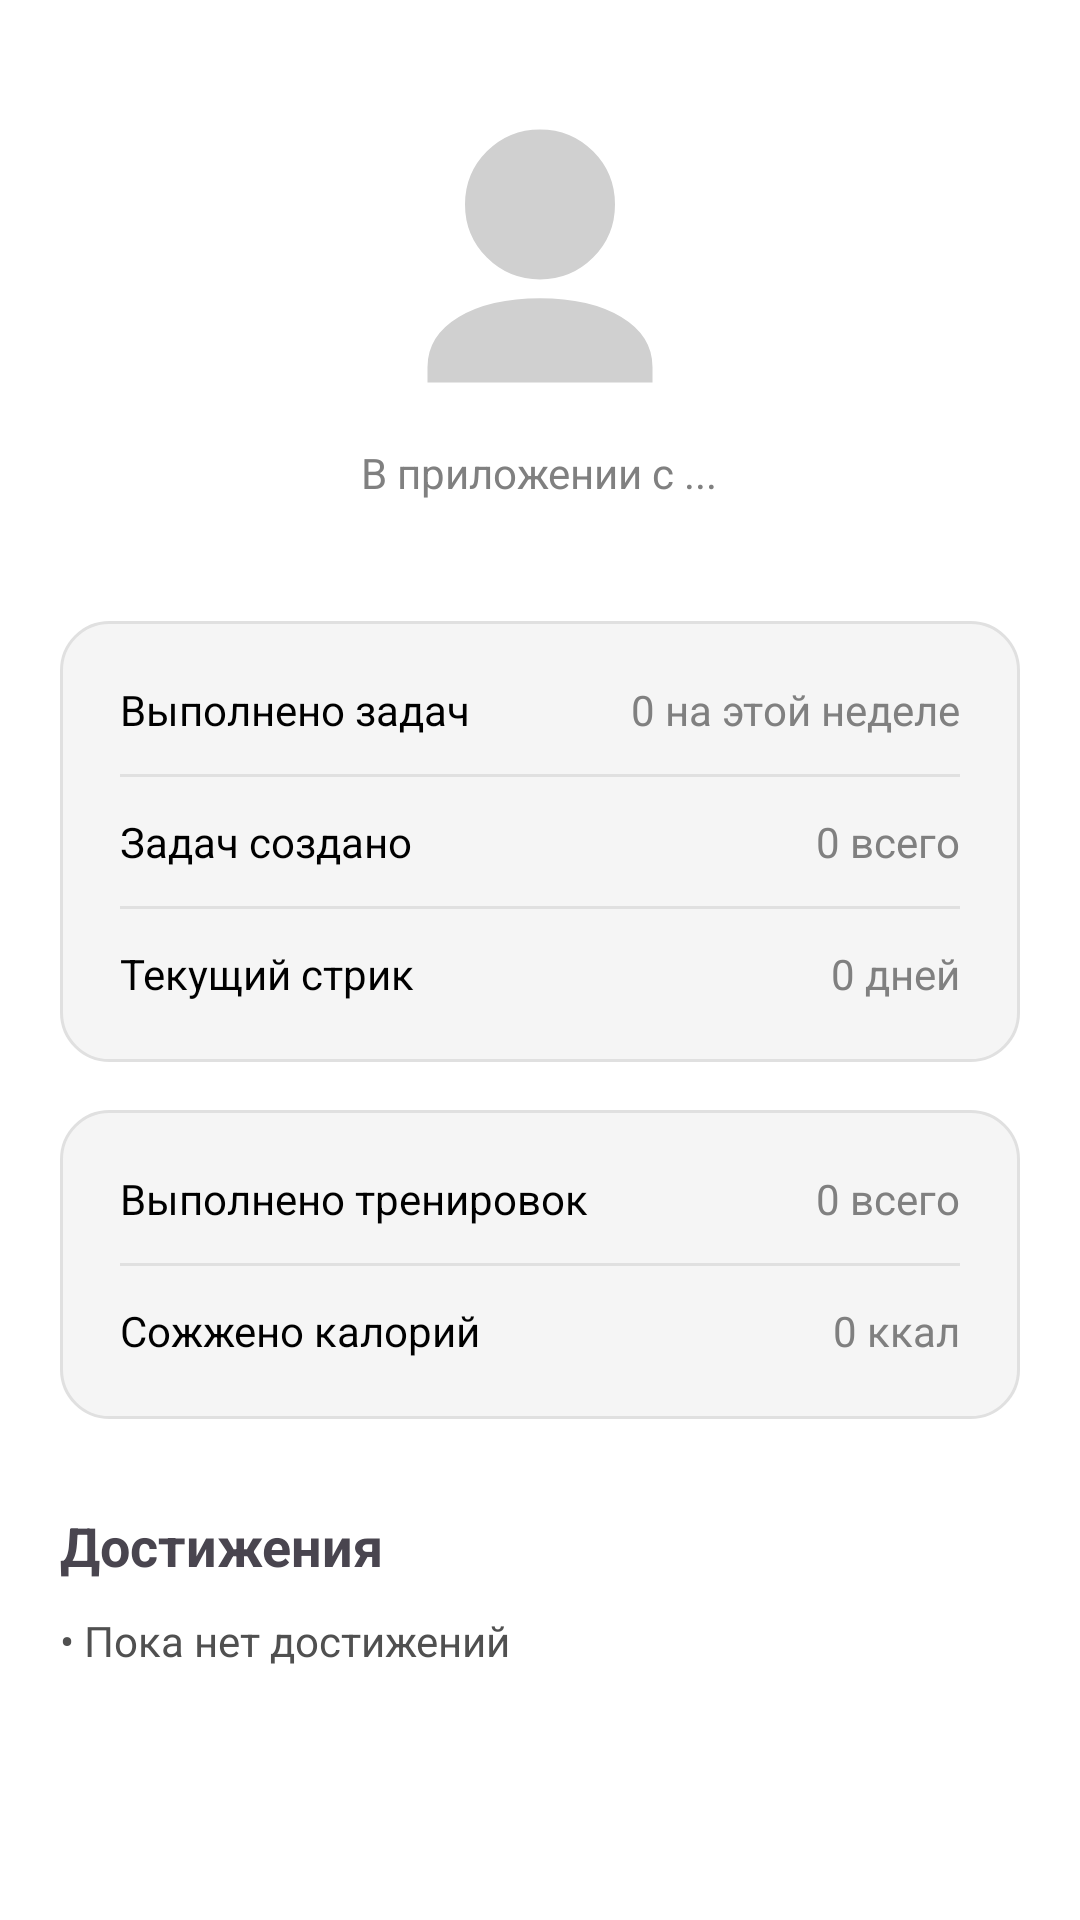

Point at icon controls on the screen. Image size 1080x1920, points as (x,y).
profile: (540,256)
